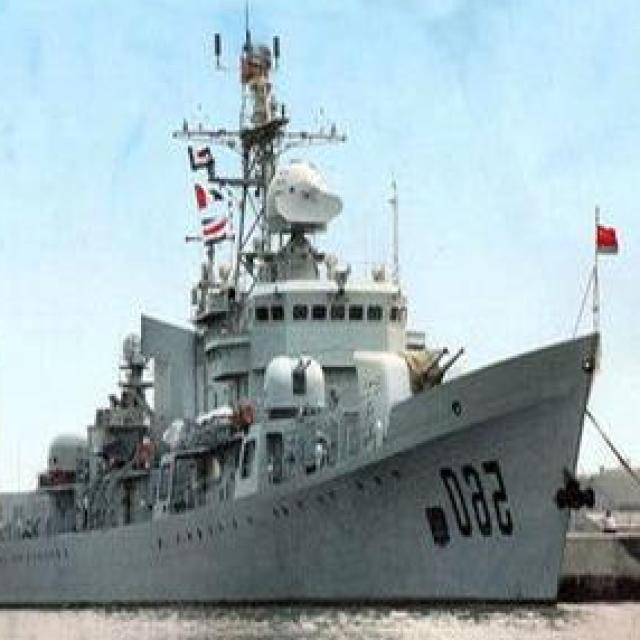navalvessels: (0, 35, 607, 608)
